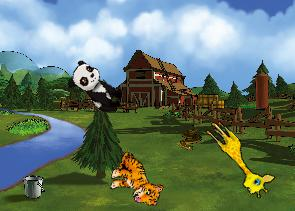giraffe: (195, 116, 279, 202)
panda: (63, 57, 130, 118)
tiger: (104, 149, 170, 209)
